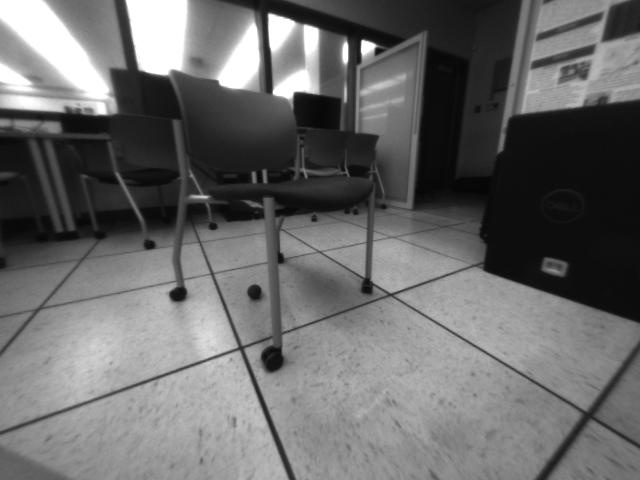dogtoy: (239, 275, 272, 312)
